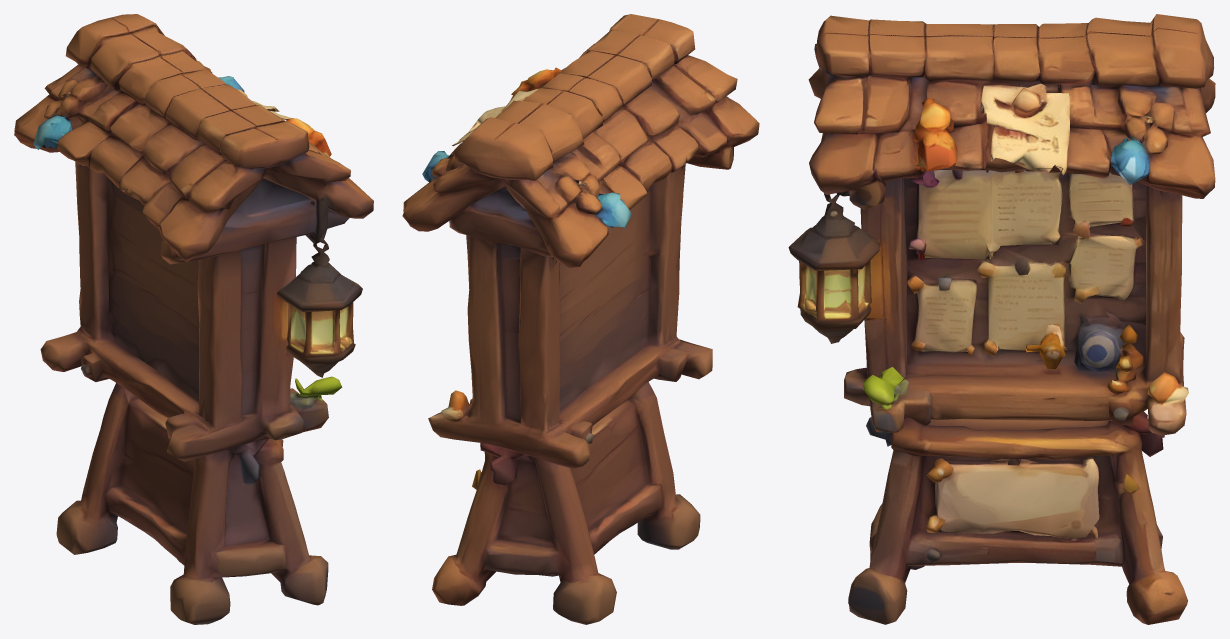
The model's file is prop_guild_quest_board_model.glb.
The picture shows the model from 3 angles, left to right: view 1: azimuth 30°, elevation 25°; view 2: azimuth 150°, elevation 25°; view 3: azimuth 270°, elevation 25°; orthographic projection. The views are drawn at different scales.
Parts seen in each view (by area): view 1: tripo_node_c296b58a-c53d-4cb2-8364-86174bb7e7bd; view 2: tripo_node_c296b58a-c53d-4cb2-8364-86174bb7e7bd; view 3: tripo_node_c296b58a-c53d-4cb2-8364-86174bb7e7bd.
Part boxes in pixels (left/top/right/bottom): tripo_node_c296b58a-c53d-4cb2-8364-86174bb7e7bd: left=14, top=14, right=373, bottom=624; tripo_node_c296b58a-c53d-4cb2-8364-86174bb7e7bd: left=402, top=14, right=759, bottom=624; tripo_node_c296b58a-c53d-4cb2-8364-86174bb7e7bd: left=788, top=14, right=1215, bottom=624.
Size of the model in its own units: 0.4412 by 1 by 0.6973.
1 material, 1 textured.
